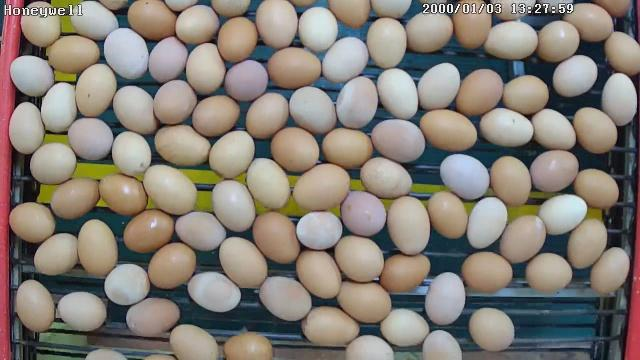egg: (142, 163, 200, 216), (219, 234, 270, 291), (290, 162, 350, 210), (386, 194, 432, 256), (251, 208, 301, 264), (335, 276, 392, 325), (76, 216, 121, 278), (256, 274, 314, 322), (418, 106, 478, 152), (333, 231, 385, 284), (209, 176, 257, 233), (153, 122, 211, 168), (453, 66, 505, 117), (206, 127, 256, 180), (370, 115, 426, 162), (120, 206, 176, 253), (266, 44, 323, 90), (245, 154, 291, 211), (287, 83, 338, 134), (497, 212, 547, 264), (269, 123, 321, 173), (144, 241, 197, 290), (294, 246, 342, 300), (333, 74, 379, 130), (300, 304, 361, 346), (338, 187, 388, 238), (438, 152, 491, 200), (48, 175, 102, 222), (102, 26, 149, 80), (358, 155, 413, 201), (172, 209, 228, 254), (124, 294, 181, 338), (111, 84, 159, 136), (186, 270, 244, 313), (376, 250, 432, 294), (74, 62, 118, 118), (46, 31, 102, 75), (320, 35, 370, 84), (243, 88, 290, 140), (464, 196, 510, 249), (478, 105, 536, 147), (376, 66, 420, 121), (184, 40, 227, 96), (14, 277, 56, 334), (97, 171, 149, 217), (320, 125, 374, 169), (424, 270, 466, 326), (150, 77, 198, 126), (528, 148, 580, 193), (189, 93, 241, 138), (488, 154, 532, 207), (565, 216, 608, 270), (404, 8, 454, 54), (28, 140, 78, 186), (482, 19, 538, 60), (461, 251, 514, 294), (365, 16, 408, 69), (31, 231, 80, 277), (66, 116, 115, 162), (18, 0, 64, 49), (416, 60, 461, 110), (574, 105, 618, 156), (124, 0, 180, 40), (536, 193, 588, 236), (562, 1, 614, 44), (55, 290, 108, 332), (7, 99, 46, 156), (39, 80, 80, 134), (468, 306, 516, 352), (102, 261, 150, 307), (255, 0, 299, 50), (379, 306, 431, 348), (68, 0, 120, 42), (524, 251, 572, 296), (530, 107, 578, 152), (222, 58, 270, 103), (588, 246, 631, 296), (426, 190, 469, 240), (216, 13, 259, 63), (600, 71, 638, 127), (550, 53, 598, 97), (296, 4, 340, 52), (146, 34, 190, 82), (294, 209, 344, 251), (10, 54, 56, 99), (8, 201, 56, 244), (110, 129, 153, 177), (501, 74, 550, 116), (173, 3, 222, 44), (453, 0, 493, 50), (168, 322, 220, 360), (573, 168, 620, 210), (536, 19, 580, 62), (602, 29, 640, 76)
